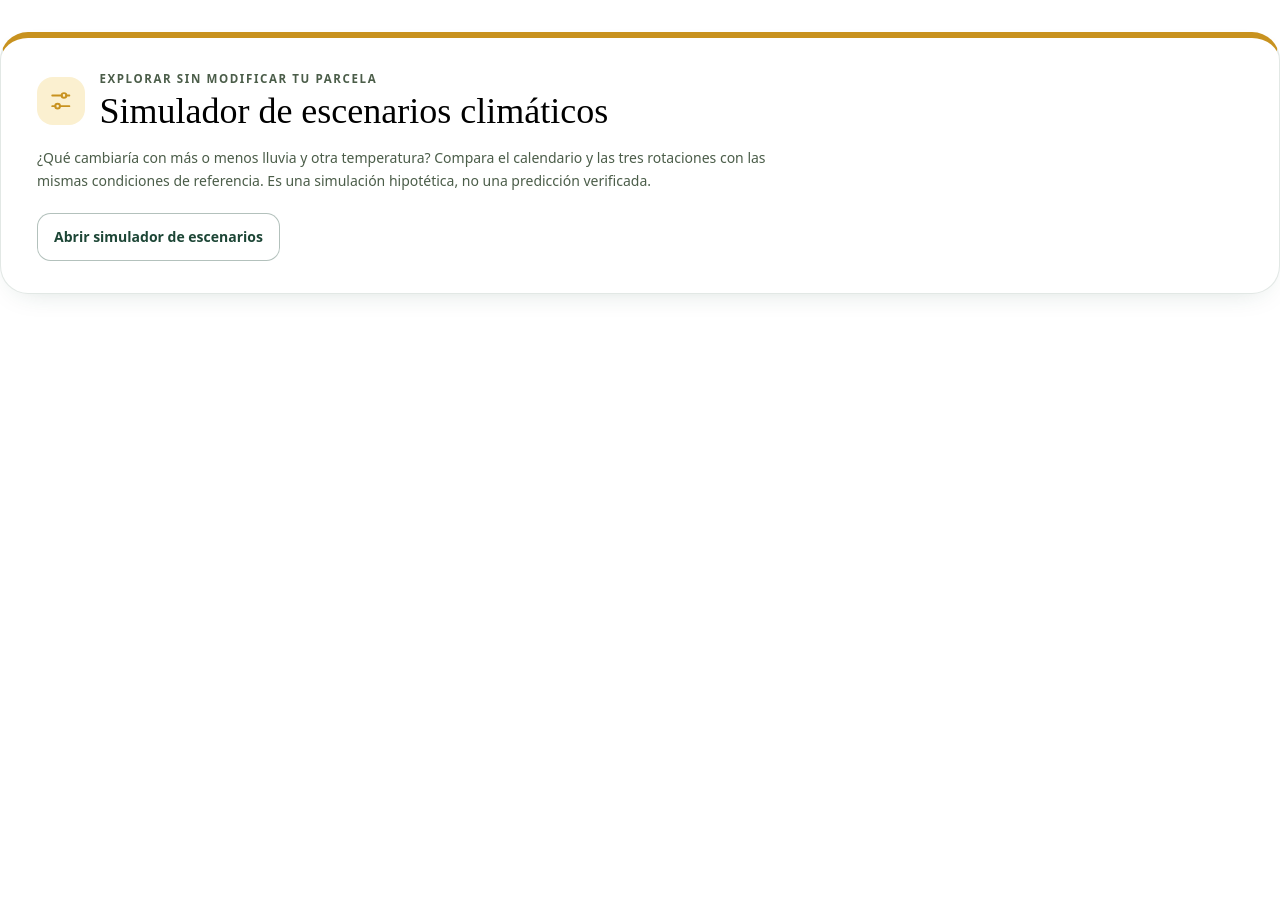
Test: Simulador visual, controles, peticiones y sesiones › rechaza que el servidor devuelva otro escenario en lugar del solicitado
Click the button "Abrir simulador de escenarios" at (158, 237), box x1=37 y1=213 x2=280 y2=261
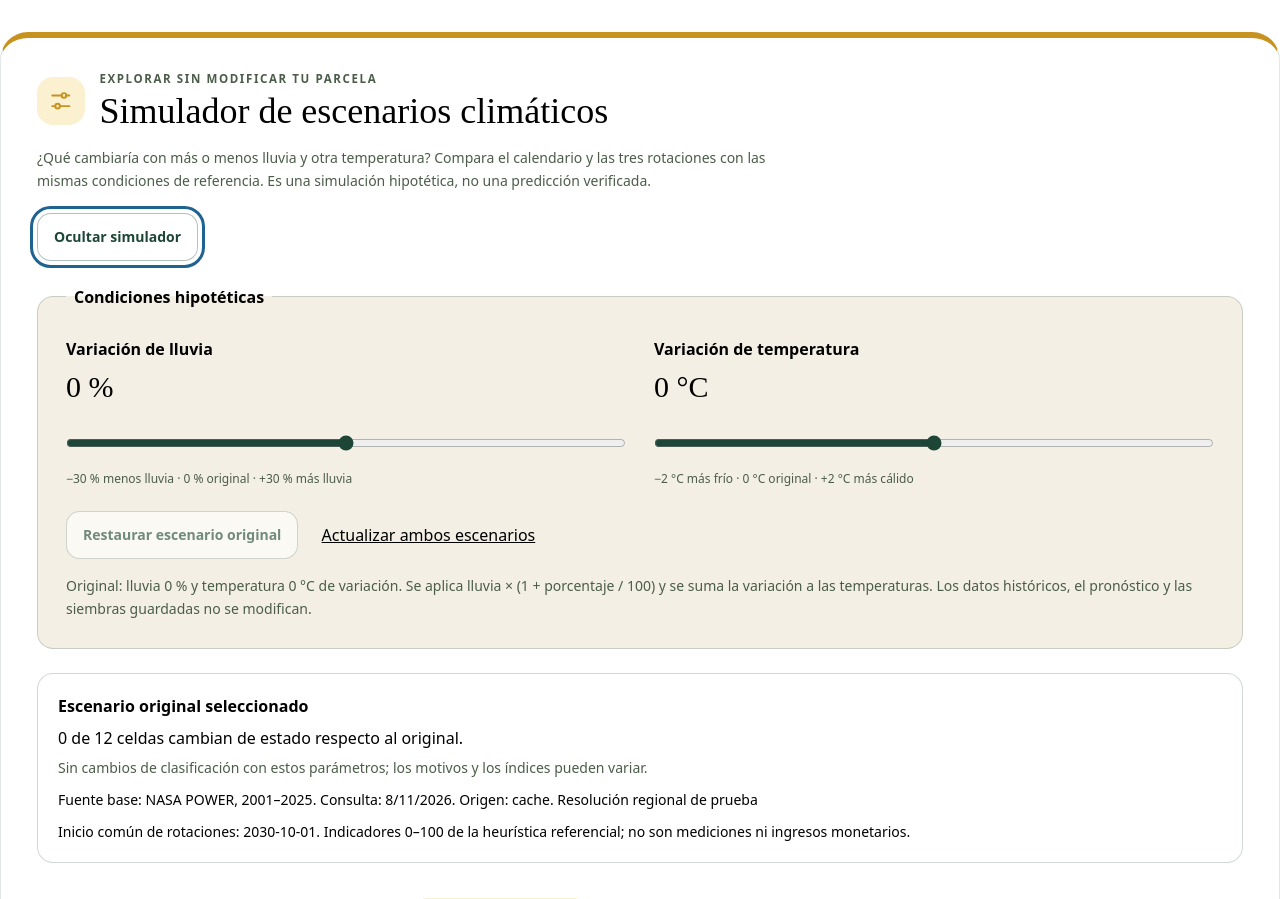
Now the text "Escenario original seleccionado" is shown, box x1=58 y1=695 x2=308 y2=717
Set the slider labelled "Variación de temperatura" to "2" at (1206, 443), box x1=654 y1=421 x2=1214 y2=465
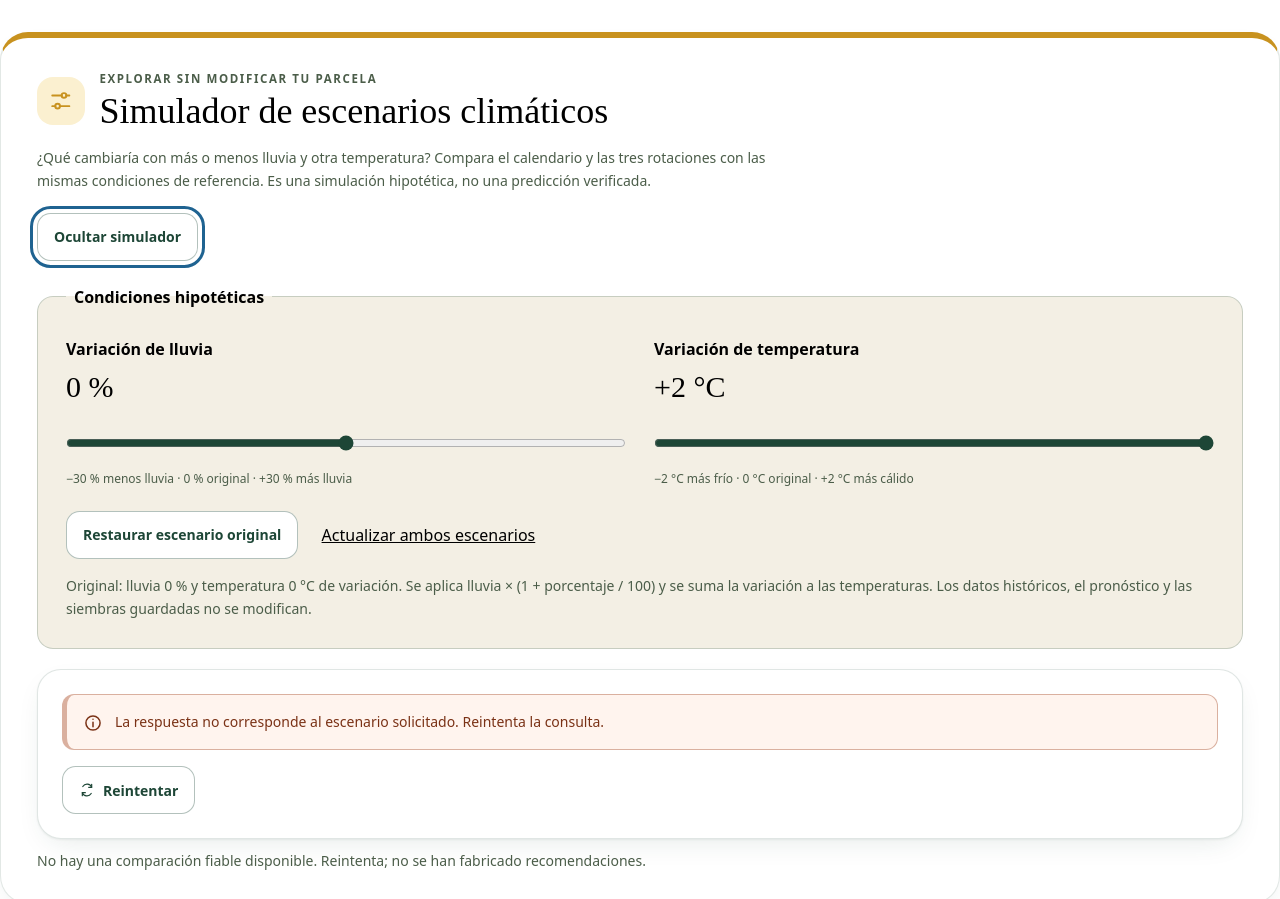
Now the message shows "no corresponde al escenario", box x1=115 y1=712 x2=604 y2=731
